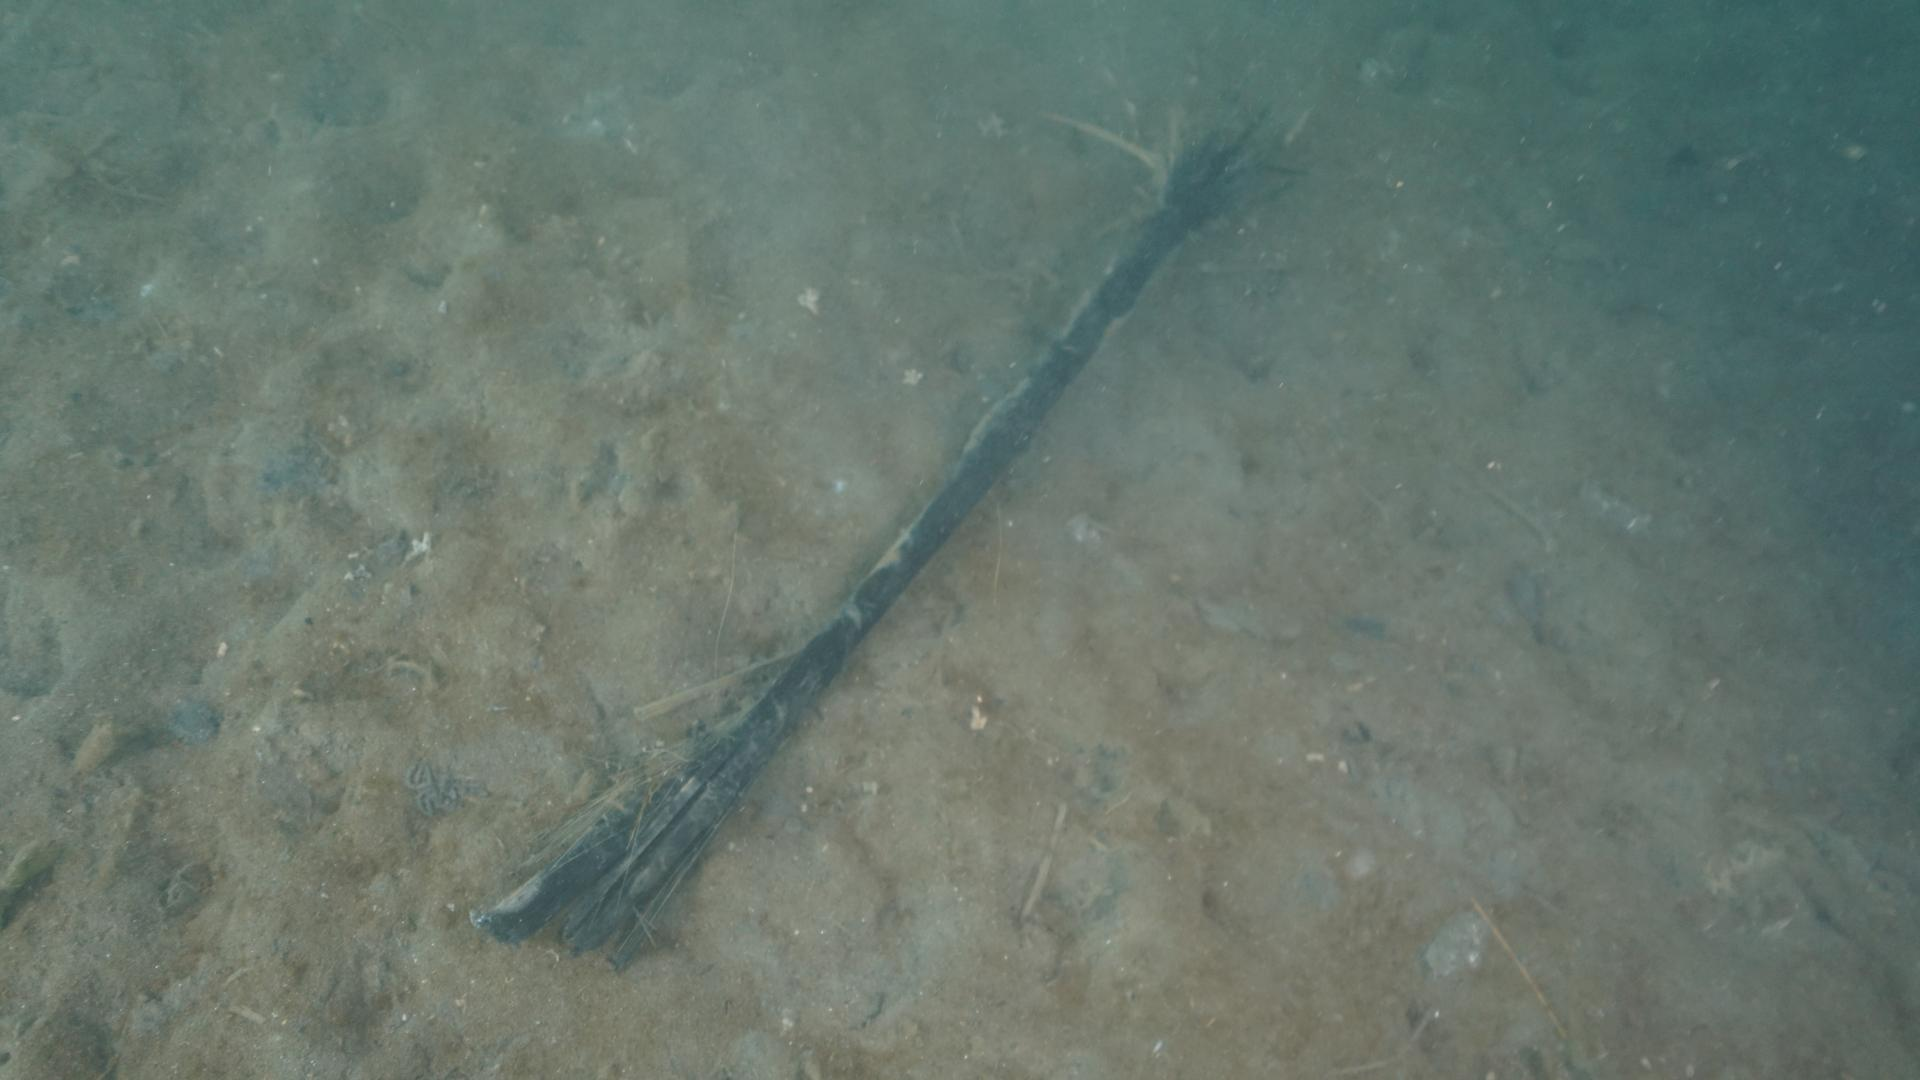wood: (477, 102, 1288, 969)
